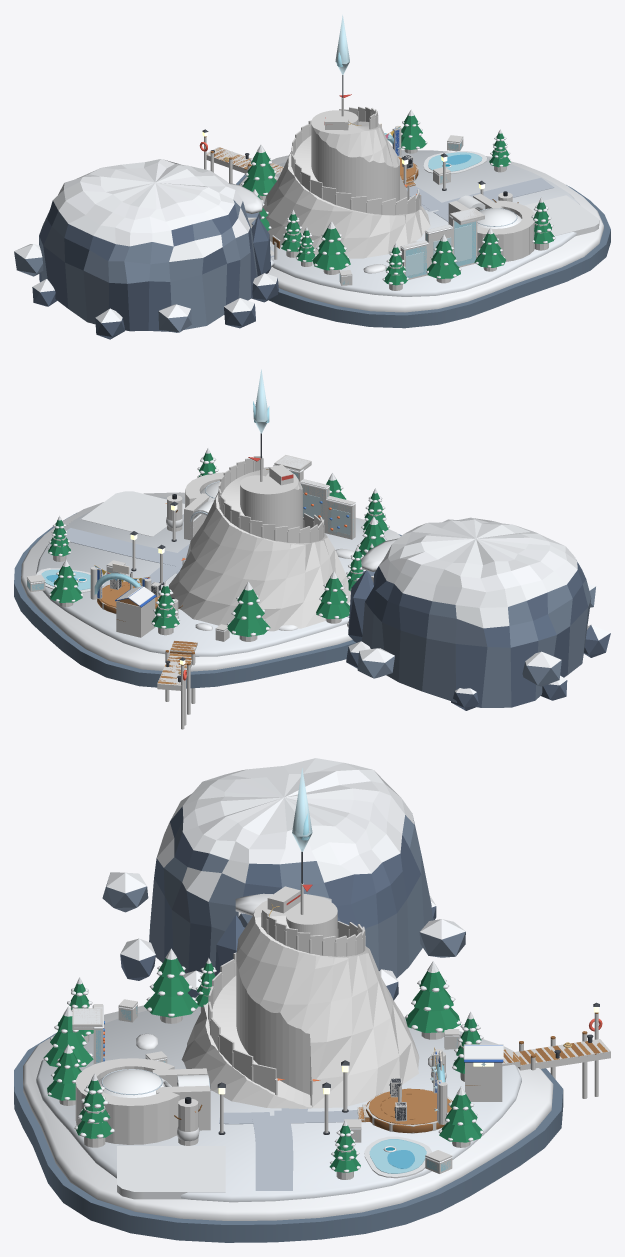
File: pico.glb
3 renders of one model, top to bottom at view 1: azimuth 30°, elevation 25°; view 2: azimuth 150°, elevation 25°; view 3: azimuth 270°, elevation 25°, orthographic. The views are drawn at different scales.
Parts seen in each view (by area): view 1: caverna, chao, col-terreno, cenario, telhado-iglu, col-cais-deque-1, marco-do-cume, porto; view 2: caverna, chao, col-terreno, cenario, col-quiosque-1, porto, col-parede-gelo-1, marco-do-cume, col-cais-deque-1, col-parede-iglu-20, brinquedo-do-festival, col-parede-gelo-2; view 3: chao, caverna, col-terreno, cenario, telhado-iglu, col-quiosque-1, porto, col-cais-deque-1, marco-do-cume, col-parede-iglu-20, brinquedo-do-festival, col-parede-iglu-15 (+4 smaller).
Boxes of the visible parts, x1=… form: caverna: x1=14, y1=159, x2=280, y2=339; chao: x1=236, y1=149, x2=610, y2=328; col-terreno: x1=262, y1=110, x2=430, y2=258; cenario: x1=241, y1=109, x2=555, y2=285; telhado-iglu: x1=457, y1=195, x2=521, y2=228; col-cais-deque-1: x1=206, y1=147, x2=251, y2=173; marco-do-cume: x1=335, y1=15, x2=349, y2=97; porto: x1=199, y1=129, x2=282, y2=173; caverna: x1=346, y1=517, x2=610, y2=710; chao: x1=14, y1=491, x2=401, y2=688; col-terreno: x1=169, y1=467, x2=350, y2=631; cenario: x1=26, y1=448, x2=389, y2=636; col-quiosque-1: x1=116, y1=598, x2=155, y2=637; porto: x1=158, y1=641, x2=197, y2=684; col-parede-gelo-1: x1=326, y1=496, x2=355, y2=539; marco-do-cume: x1=253, y1=369, x2=269, y2=458; col-cais-deque-1: x1=157, y1=653, x2=191, y2=690; col-parede-iglu-20: x1=184, y1=493, x2=209, y2=540; brinquedo-do-festival: x1=115, y1=586, x2=156, y2=621; col-parede-gelo-2: x1=300, y1=479, x2=329, y2=533; chao: x1=14, y1=997, x2=563, y2=1242; caverna: x1=102, y1=758, x2=465, y2=1000; col-terreno: x1=181, y1=894, x2=419, y2=1108; cenario: x1=43, y1=948, x2=483, y2=1190; telhado-iglu: x1=98, y1=1069, x2=210, y2=1097; col-quiosque-1: x1=465, y1=1062, x2=502, y2=1101; porto: x1=503, y1=1002, x2=607, y2=1067; col-cais-deque-1: x1=513, y1=1039, x2=610, y2=1070; marco-do-cume: x1=292, y1=768, x2=312, y2=883; col-parede-iglu-20: x1=156, y1=1085, x2=210, y2=1130; brinquedo-do-festival: x1=463, y1=1044, x2=503, y2=1085; col-parede-iglu-15: x1=113, y1=1097, x2=131, y2=1144.
Bounding box in the file's own units: 45.05 × 20.7 × 31.92.
